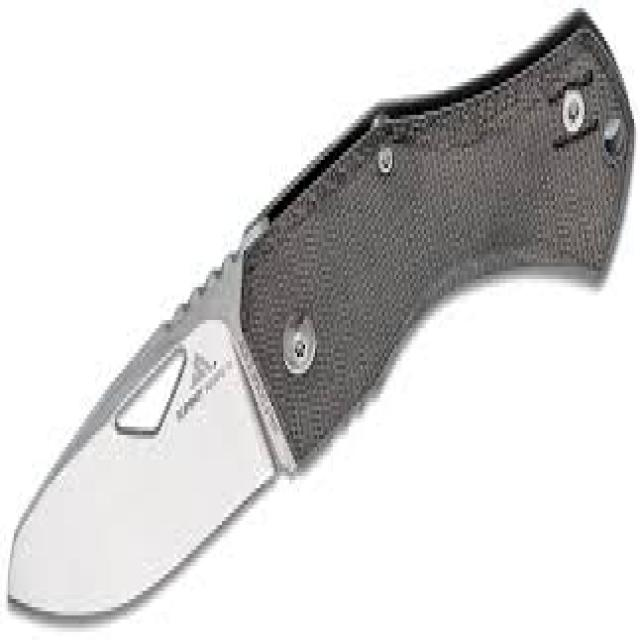knives: (4, 4, 636, 628)
